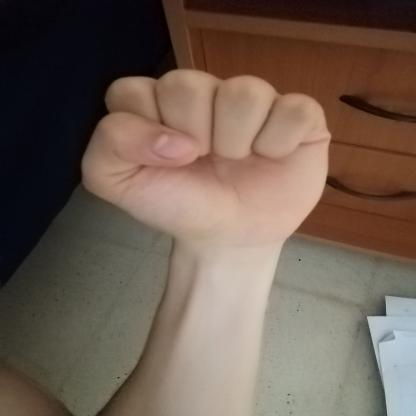SAD: (60, 57, 351, 259)
